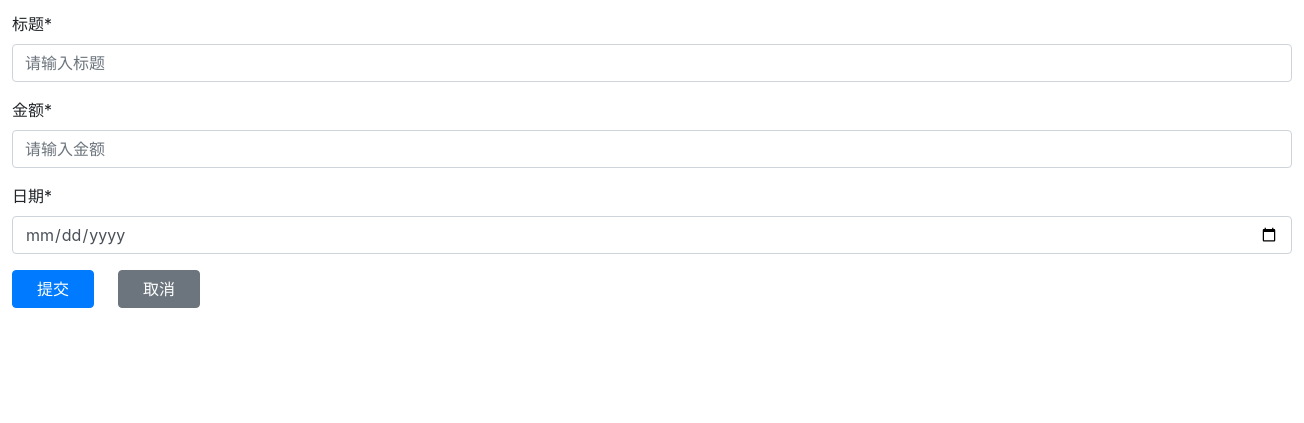
Scenario: test PriceForm Component with on item › submit form with empty input should show alert message
What coordinates should you click on to do the following:
click the button with class "btn-submit"
I would click on:
 (53, 289)
Its box is x1=12 y1=270 x2=94 y2=308.
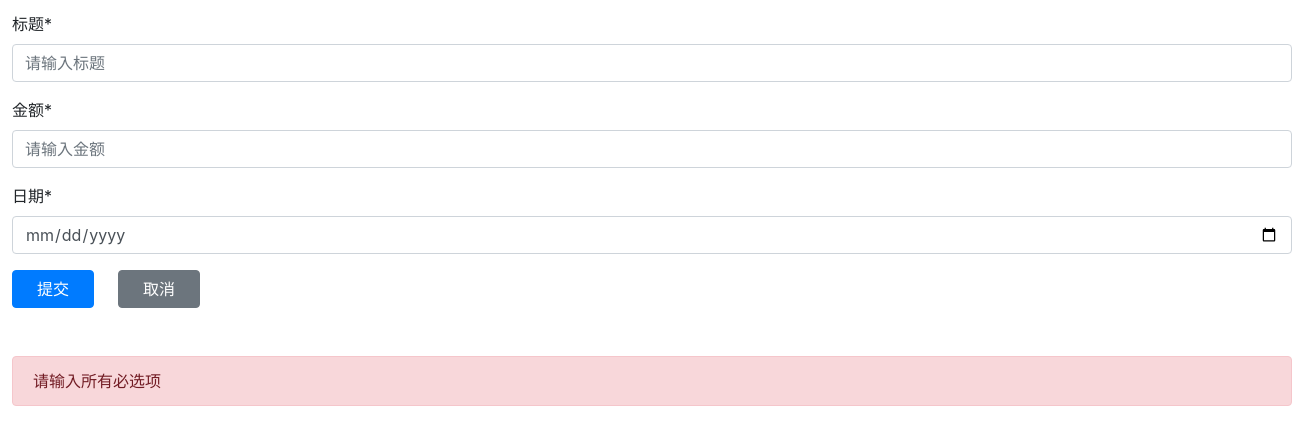
Check: the number of elements with class "alert" is 1, box x1=12 y1=356 x2=1292 y2=406
